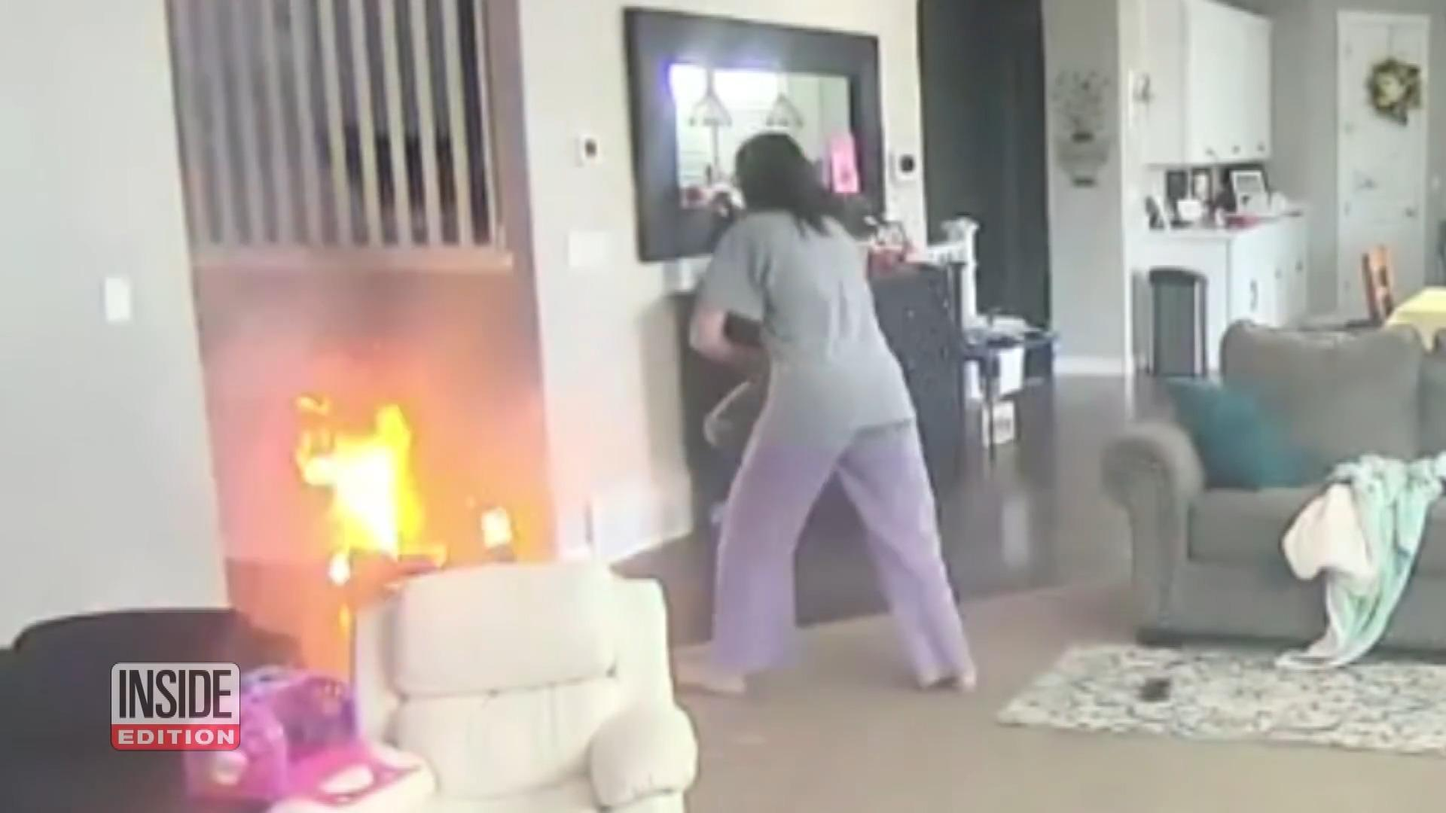fire: (296, 395, 447, 586), (478, 505, 513, 548)
